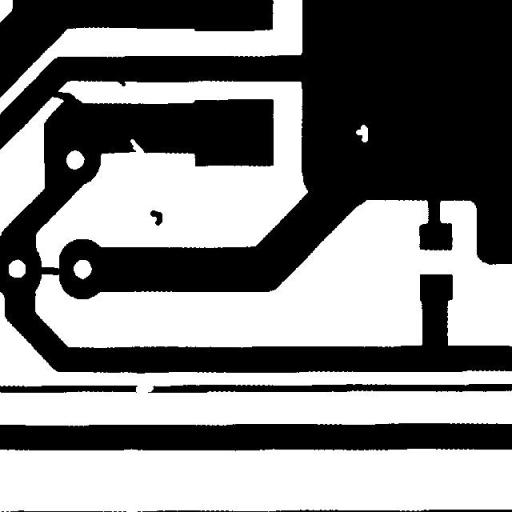copper: (142, 202, 170, 233)
mousebite: (122, 131, 152, 162)
open: (128, 378, 161, 400)
pin-hole: (348, 116, 375, 150)
short: (42, 84, 82, 110), (27, 260, 68, 282)
spur: (109, 70, 133, 94)
